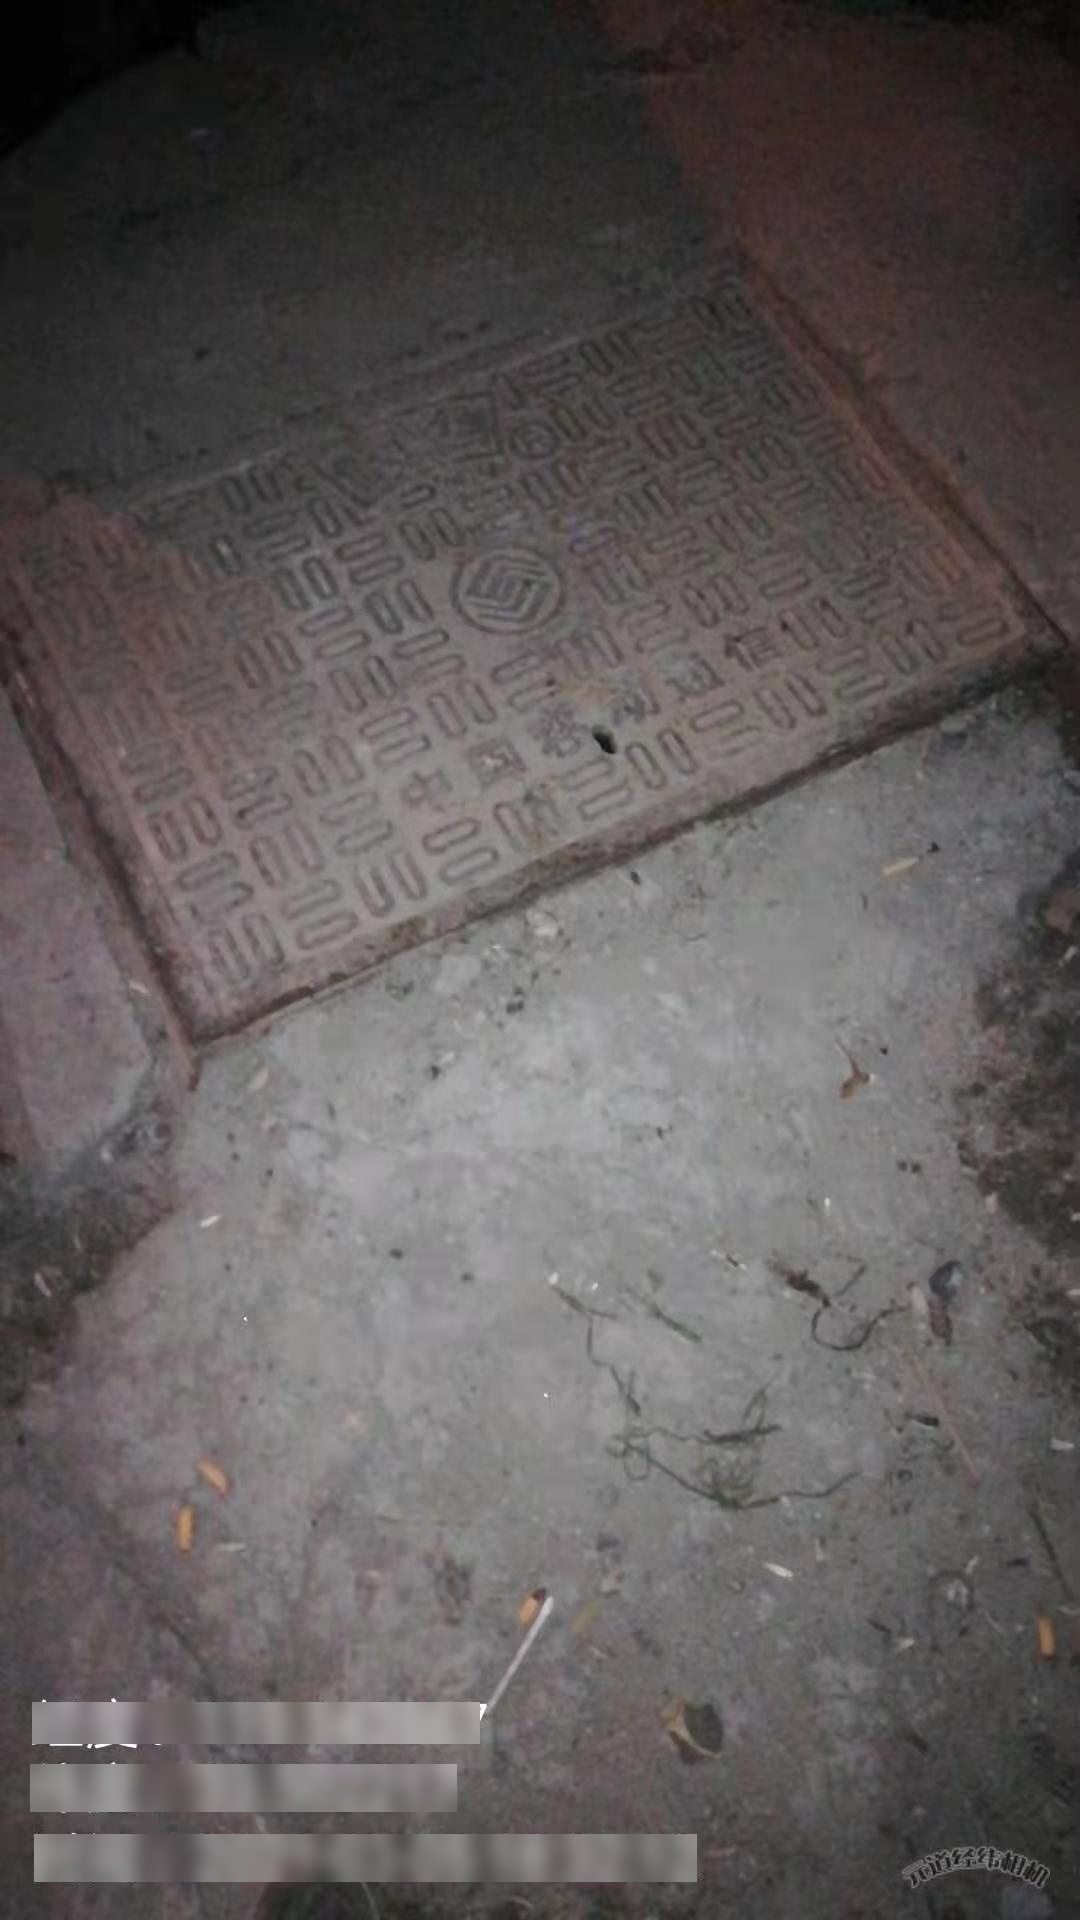good: (1, 243, 1080, 1067)
